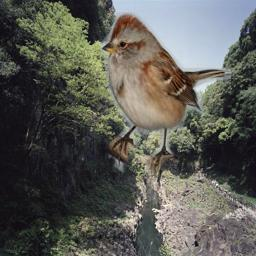Sparrow: (100, 12, 231, 174)
